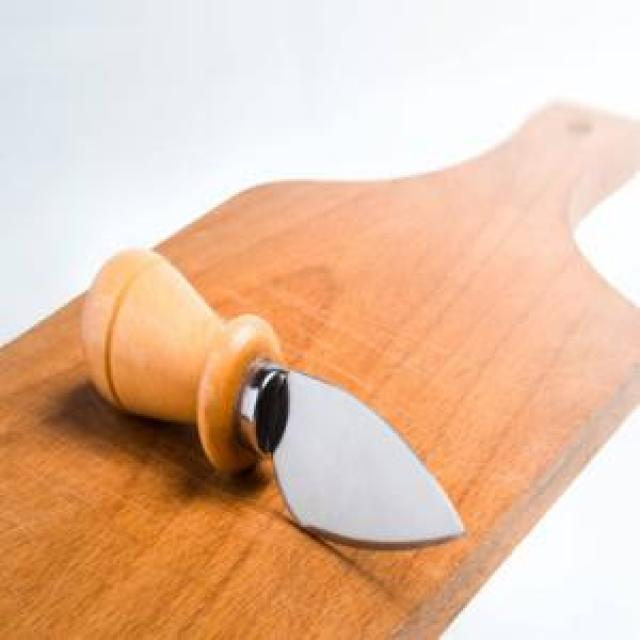knife: (77, 245, 466, 548)
